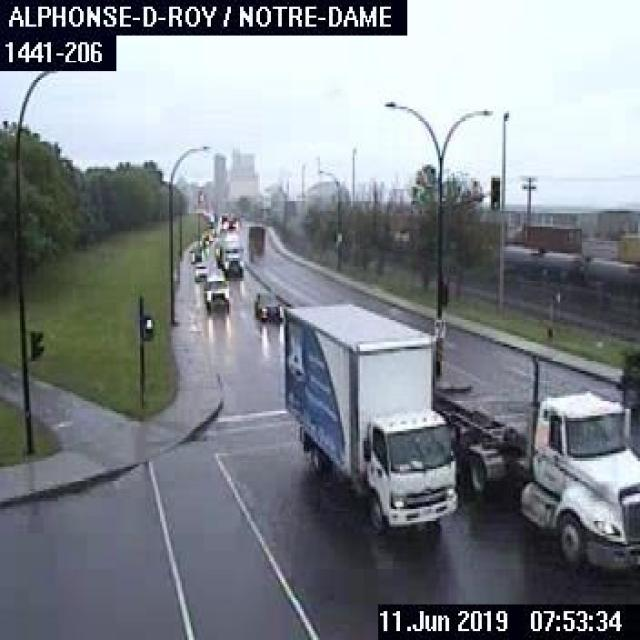vehicle: (275, 298, 463, 576), (434, 342, 638, 582), (218, 229, 244, 275), (202, 272, 230, 314), (252, 289, 282, 321), (218, 209, 240, 229), (190, 263, 208, 283), (248, 223, 264, 242)
